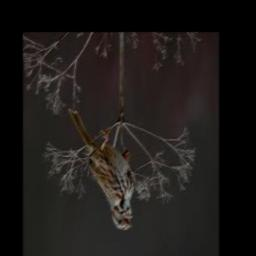Sparrow: (68, 108, 135, 231)
